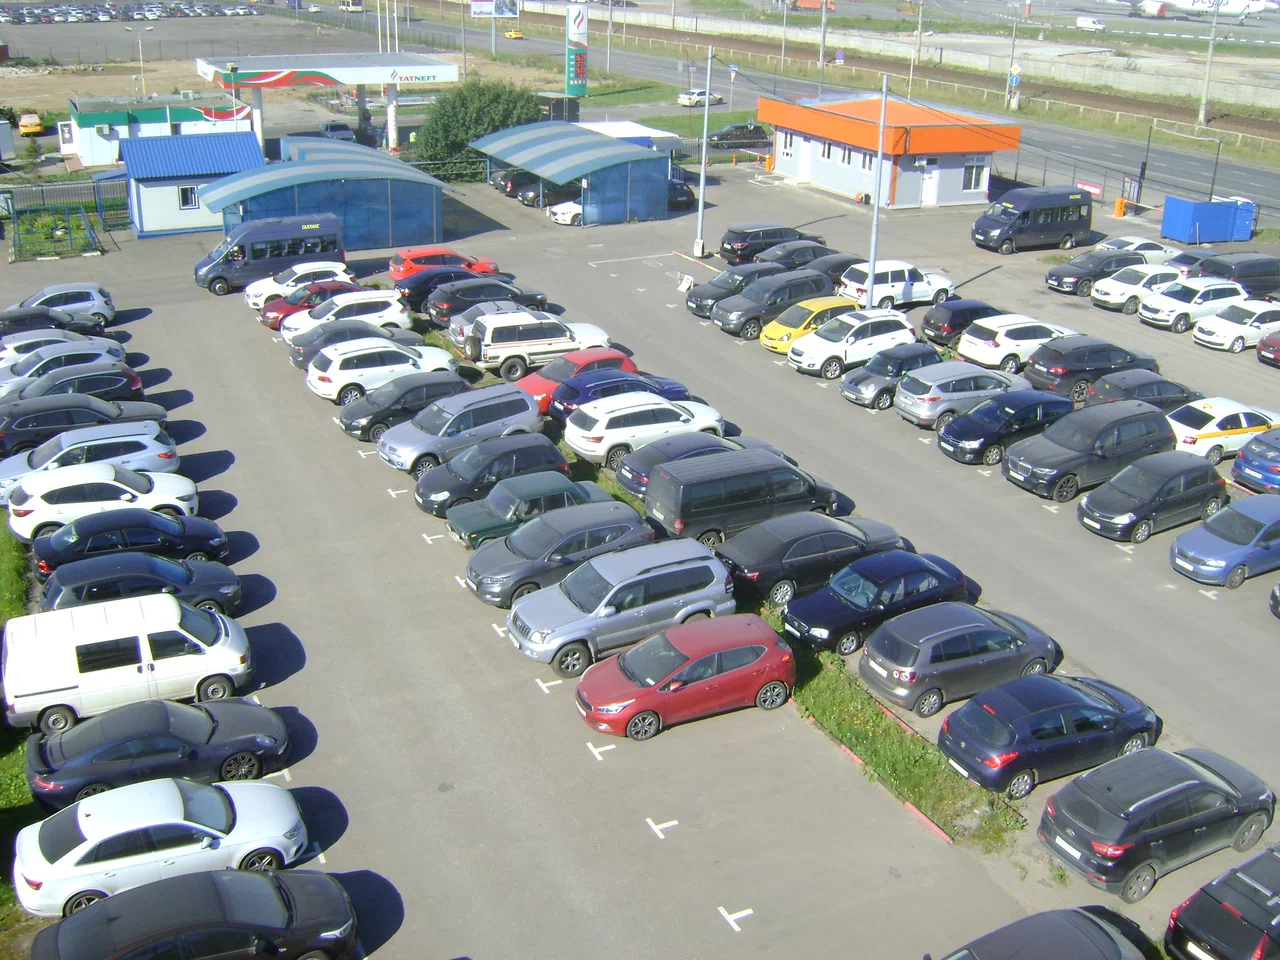Car: (12, 777, 309, 919), (1037, 747, 1276, 904), (0, 593, 252, 735), (506, 539, 736, 678), (30, 868, 357, 960), (25, 697, 289, 809), (937, 674, 1162, 801), (574, 613, 796, 741), (858, 602, 1059, 718), (463, 501, 655, 608), (781, 549, 969, 656), (717, 511, 911, 609), (644, 449, 837, 547), (1001, 398, 1177, 502), (375, 384, 544, 478), (5, 463, 199, 544), (0, 421, 180, 505), (31, 508, 230, 582), (1077, 451, 1228, 544), (920, 904, 1162, 960), (1163, 844, 1280, 960), (445, 471, 613, 550), (414, 433, 569, 517), (40, 552, 243, 615), (194, 212, 345, 296), (563, 391, 725, 469), (615, 432, 792, 500), (0, 393, 168, 458), (305, 337, 460, 406), (937, 389, 1075, 466), (1169, 494, 1280, 589), (464, 312, 612, 381), (892, 361, 1033, 430), (337, 371, 471, 441), (788, 309, 918, 380), (1024, 334, 1159, 401), (710, 269, 835, 340), (972, 184, 1093, 254), (517, 347, 637, 413), (549, 368, 691, 421), (1168, 397, 1280, 464), (957, 314, 1078, 373), (840, 342, 944, 410), (0, 341, 122, 398), (279, 291, 415, 342), (289, 320, 426, 368), (1138, 277, 1250, 334), (0, 361, 145, 404), (424, 278, 548, 328), (759, 295, 859, 355), (839, 257, 953, 309), (686, 261, 787, 319), (258, 280, 376, 329), (243, 261, 356, 311), (1085, 368, 1204, 413), (394, 266, 513, 310), (447, 301, 555, 348), (1091, 263, 1187, 316), (920, 299, 1017, 351), (0, 329, 126, 368), (1045, 249, 1148, 296), (1192, 299, 1280, 353), (10, 282, 116, 325), (720, 222, 827, 263), (1198, 251, 1280, 299), (389, 246, 498, 280), (1231, 428, 1280, 494), (793, 253, 870, 295), (0, 307, 105, 336), (752, 240, 841, 271), (1096, 235, 1183, 264), (517, 178, 580, 208), (1161, 249, 1222, 277), (708, 124, 768, 150), (499, 168, 540, 197), (547, 198, 582, 226), (677, 88, 724, 108), (668, 178, 695, 211), (319, 120, 356, 143), (1257, 330, 1280, 365), (489, 165, 518, 190), (18, 113, 44, 137), (792, 0, 836, 12), (1076, 16, 1106, 33), (392, 4, 416, 21), (1270, 580, 1280, 618), (339, 0, 365, 12), (504, 27, 524, 39), (612, 0, 638, 8), (1264, 288, 1280, 302), (236, 6, 250, 16), (119, 11, 133, 21), (86, 9, 99, 19), (98, 12, 111, 22), (82, 12, 95, 22), (285, 0, 301, 8), (39, 14, 53, 23), (308, 4, 322, 13), (213, 8, 226, 17), (173, 9, 186, 18), (15, 12, 26, 22), (133, 11, 144, 21), (144, 8, 156, 17), (54, 14, 67, 23), (24, 14, 36, 23), (250, 7, 263, 15), (447, 956, 473, 960), (0, 12, 10, 22), (10, 15, 21, 24), (160, 10, 172, 18), (76, 10, 85, 20), (180, 4, 189, 14), (148, 12, 158, 21), (68, 14, 79, 22), (225, 8, 237, 15), (166, 7, 175, 16), (201, 9, 212, 16), (188, 9, 200, 16), (70, 7, 79, 15), (196, 5, 205, 13), (200, 2, 212, 8), (568, 0, 590, 3), (23, 6, 32, 13), (155, 7, 162, 16), (171, 1, 181, 7), (157, 2, 166, 8), (67, 3, 74, 10), (264, 0, 275, 4), (250, 0, 261, 3)
